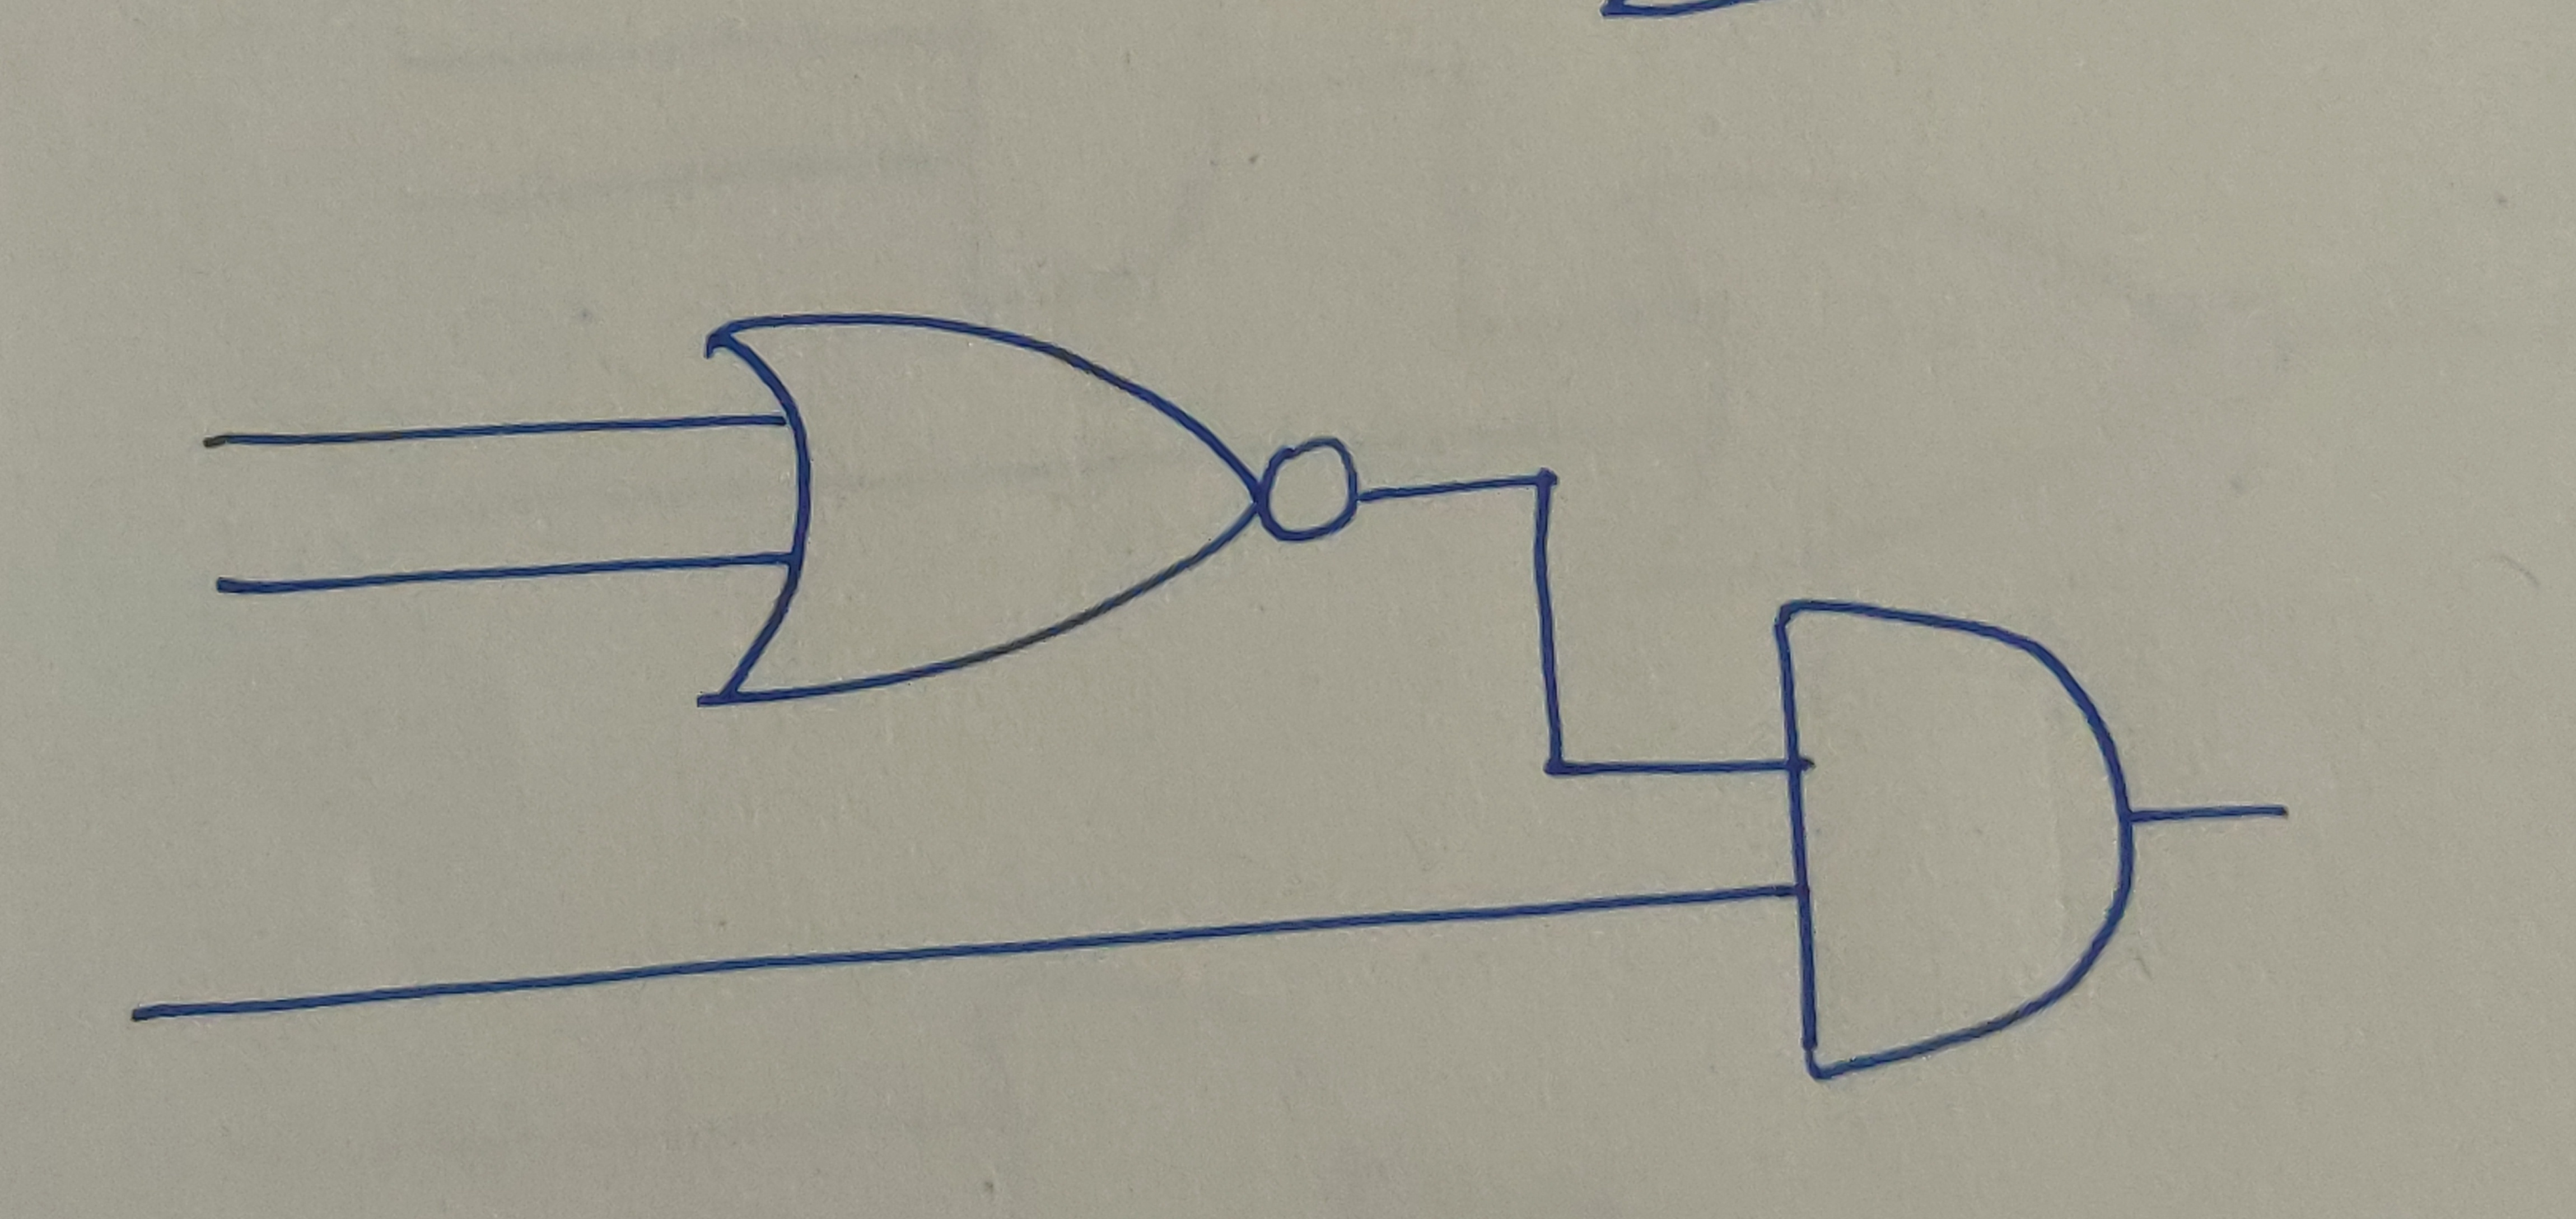and: (1768, 593, 2141, 1097)
not: (1255, 429, 1367, 550)
or: (698, 312, 1265, 705)
